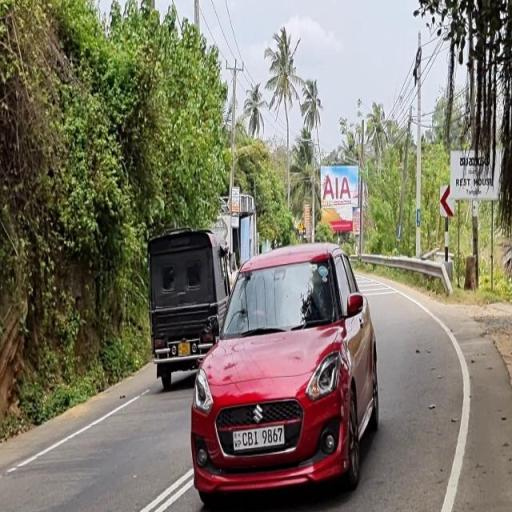double_white_line: (138, 469, 192, 511)
